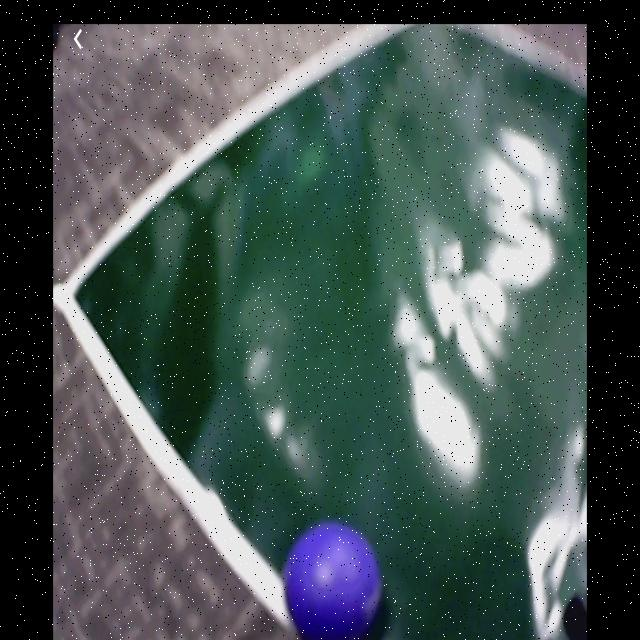ball: (285, 527, 385, 638)
